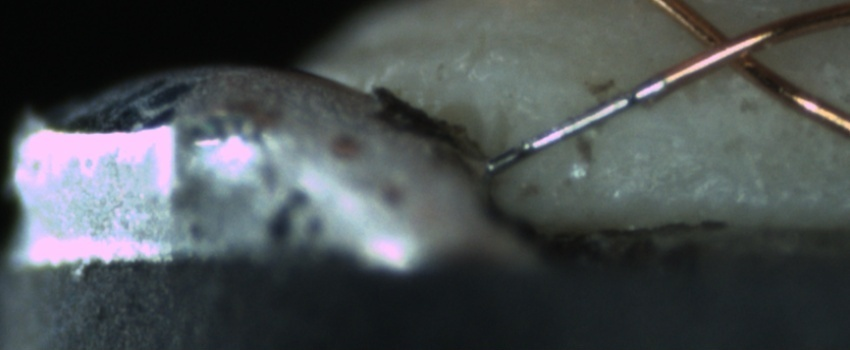CL: (679, 14, 779, 81)
TS: (479, 73, 669, 176)
